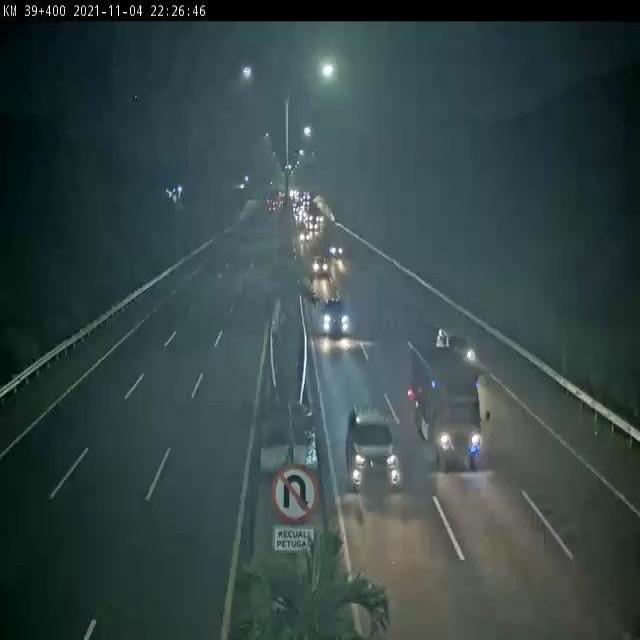car: (347, 405, 402, 492), (320, 295, 349, 337)
truck-m-: (403, 326, 496, 471)
